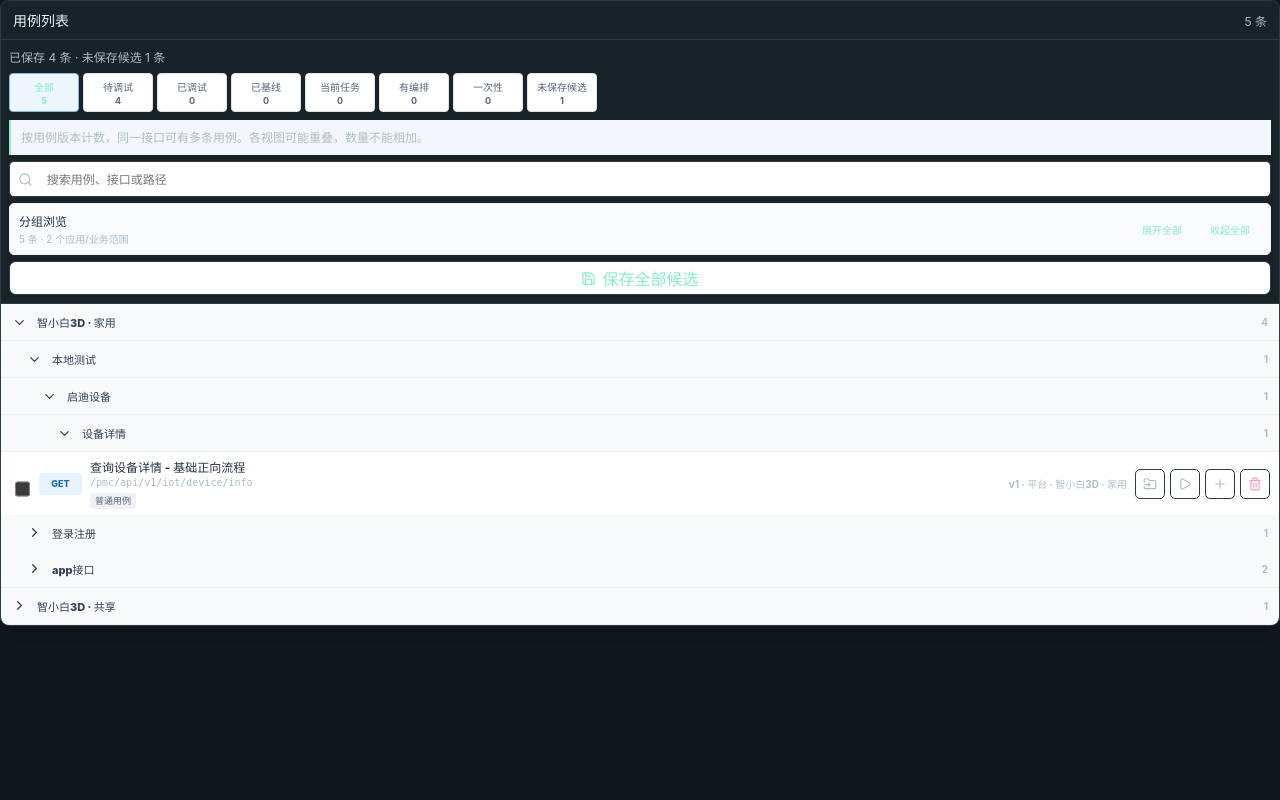
Scenario: CaseListPanel › uses a compact recursive directory and expands only the first root path by default
The image size is (1280, 800).
Expected: the element with test id "case-list-group-toolbar" shows "分组浏览", [19,214,67,229]
Expected: the element with test id "case-list-group-summary" shows "2 个应用/业务范围", [19,233,129,245]
Click the button with test id "case-list-group-toggle-智小白3D · 共享". click: (76, 607)
box: [1,588,1279,624]
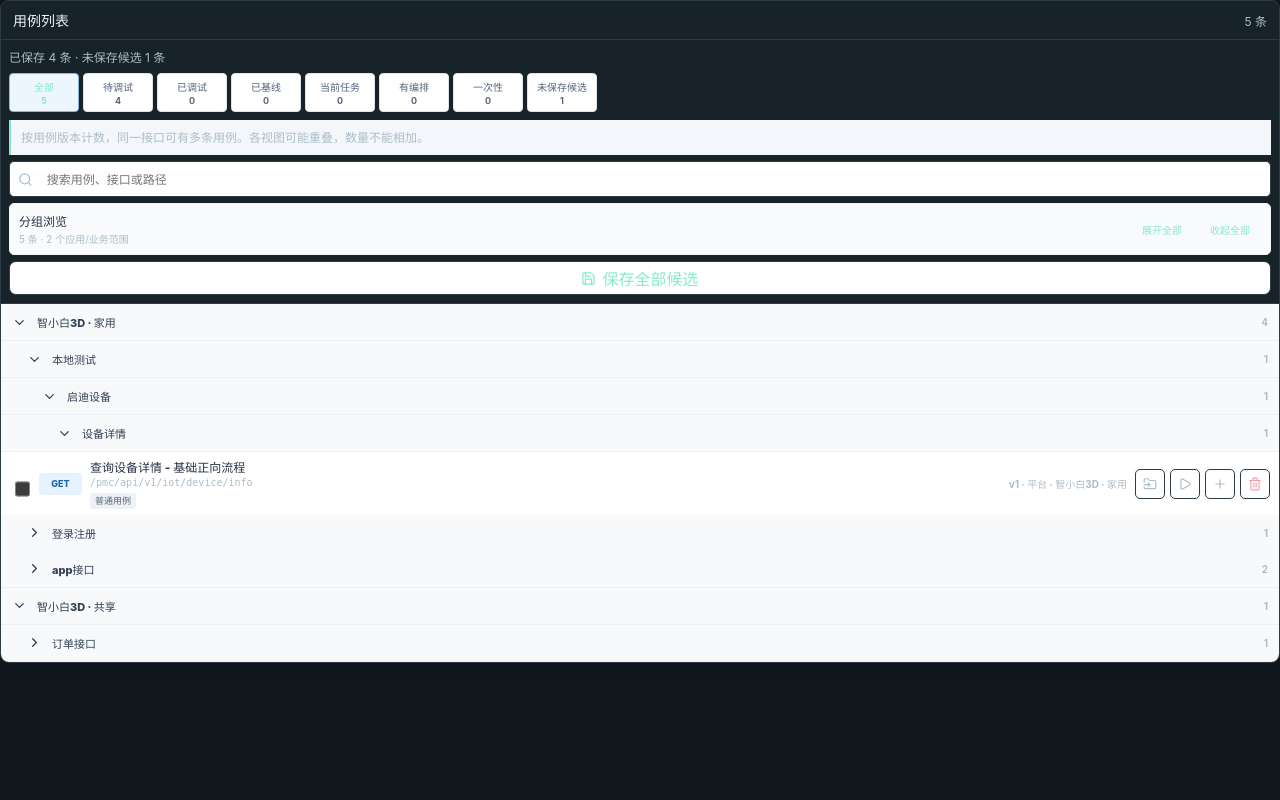
Click the button "订单接口 1". click: (74, 644)
box: [1,625,1279,661]
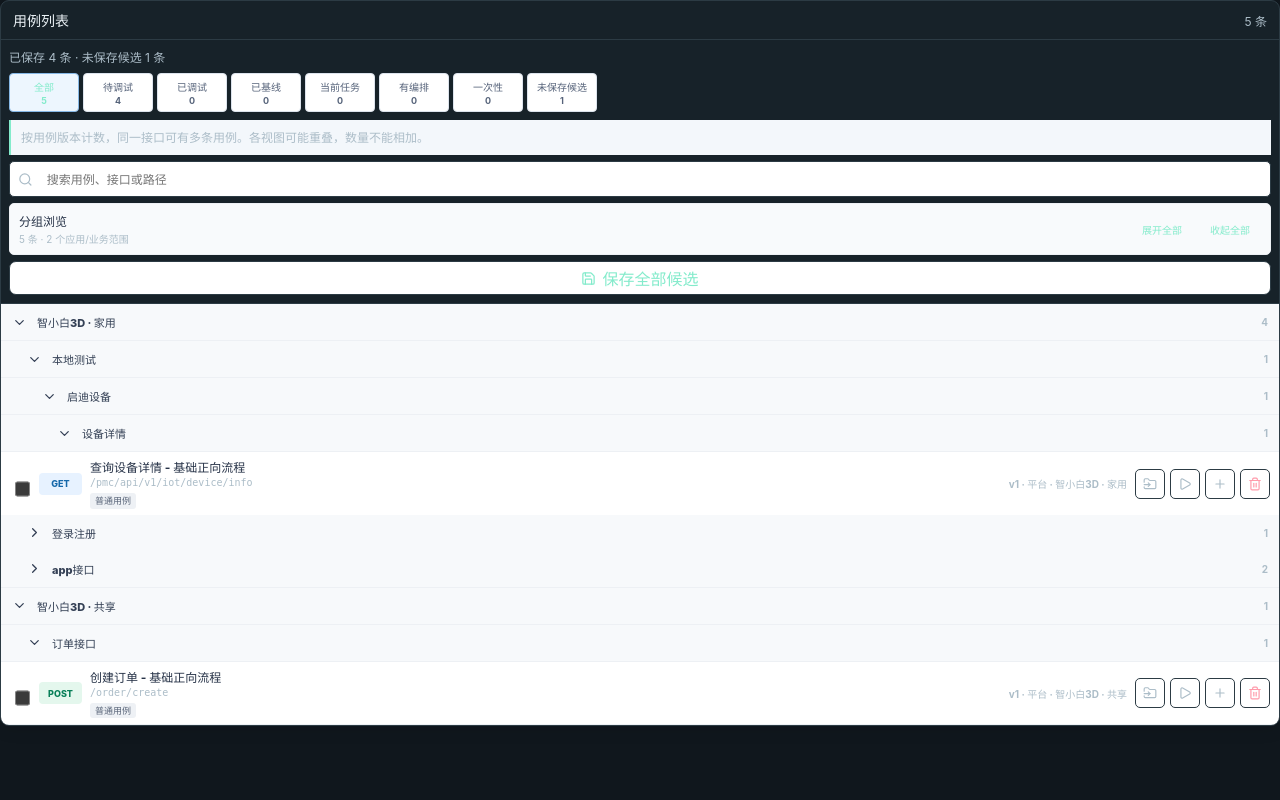
Now the element with test id "case-version-version-extra-0" shows "创建订单", box [39,668,1001,718]
